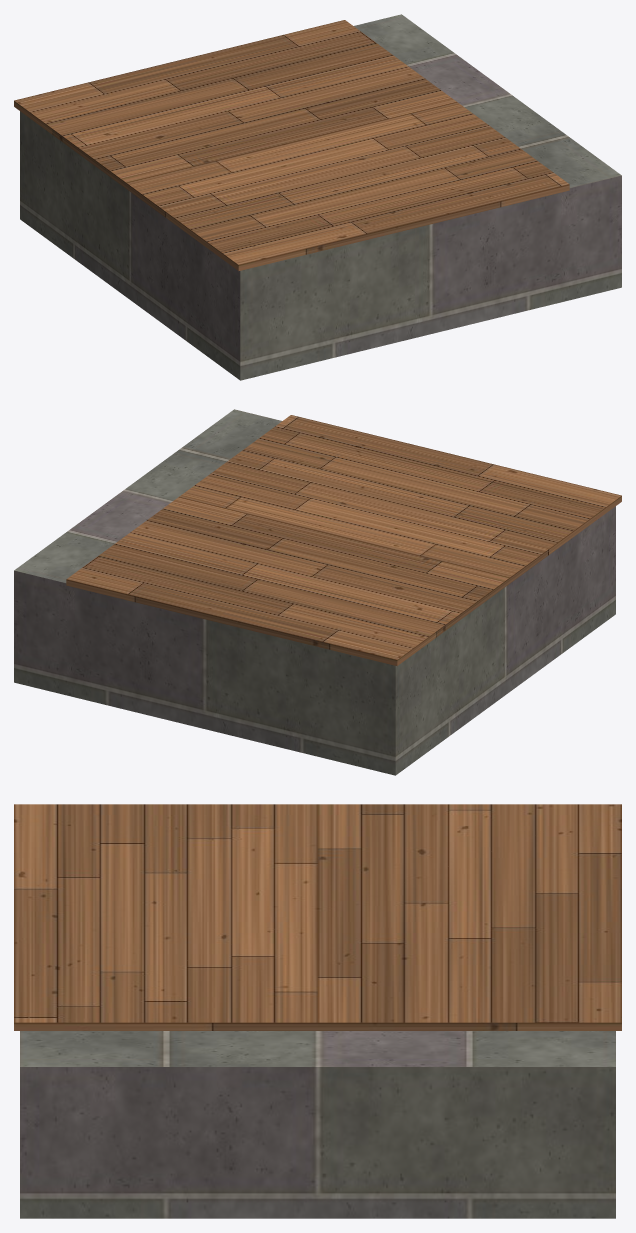
Rendered from floor_floor_g_e0100.glb.
3 renders of one model, top to bottom at view 1: azimuth 30°, elevation 25°; view 2: azimuth 150°, elevation 25°; view 3: azimuth 270°, elevation 25°, orthographic. The views are drawn at different scales.
Parts seen in each view (by area): view 1: floor_floor_g_e0100_plinth, floor_floor_g_e0100_floor; view 2: floor_floor_g_e0100_plinth, floor_floor_g_e0100_floor; view 3: floor_floor_g_e0100_floor, floor_floor_g_e0100_plinth.
Part boxes in pixels (<box>): floor_floor_g_e0100_plinth: <box>20,14,621,380</box>; floor_floor_g_e0100_floor: <box>14,20,569,270</box>; floor_floor_g_e0100_plinth: <box>14,409,615,775</box>; floor_floor_g_e0100_floor: <box>66,415,621,665</box>; floor_floor_g_e0100_floor: <box>14,804,621,1030</box>; floor_floor_g_e0100_plinth: <box>20,1031,615,1218</box>.
Size of the model in its own units: 1.98 by 0.58 by 2.
2 materials, 2 textured.
